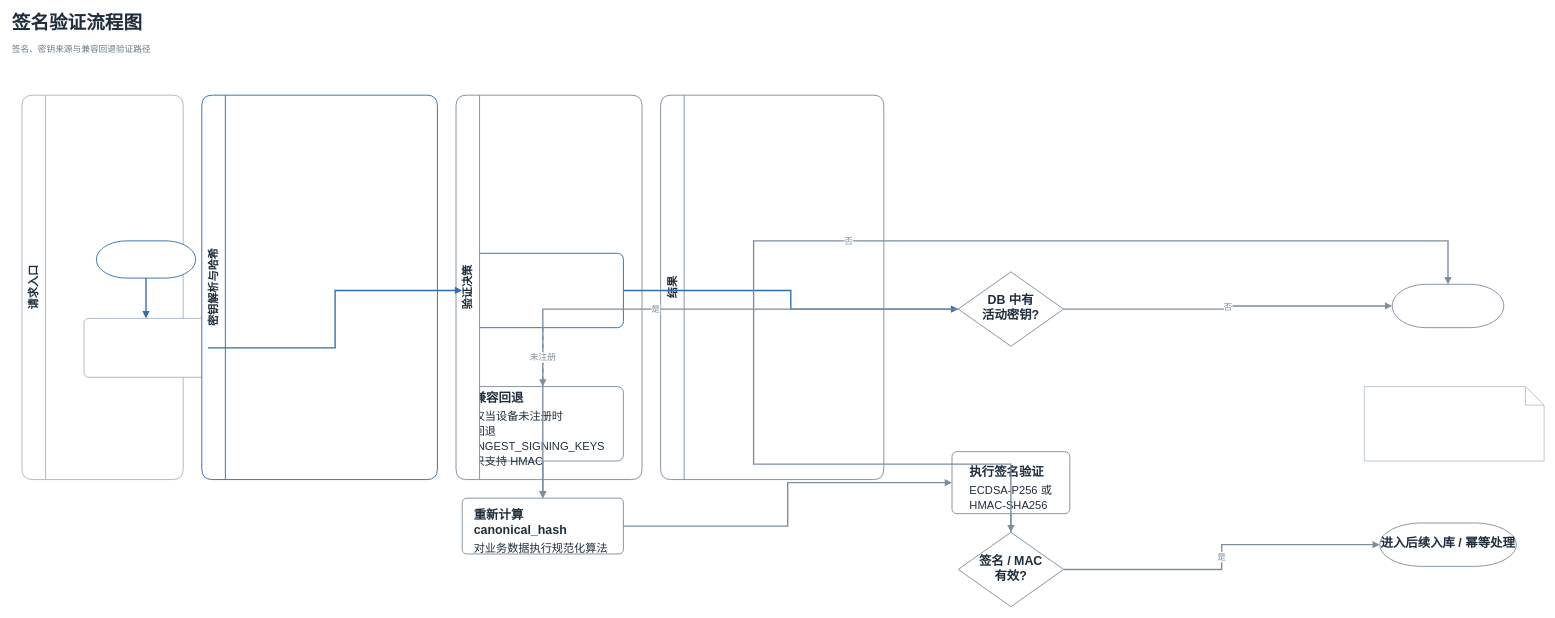
Some shapes in this 1555 by 618 pixel diagram are drawn without their labels. The centre of each missing label's shape, as x and y in pixels:
401 Unauthorized: point (1447, 306)
关键规则： 设备已注册但密钥不匹配，直接拒绝； 只有“设备尚未注册”时才允许走兼容回退。: point (1454, 423)
开始: point (146, 259)
提取信封 algorithm / key_id / signature / public_key: point (145, 347)
查询 managed_device_keys 校验 device_id + key_id 确认设备未禁用 算法必须匹配: point (542, 290)
